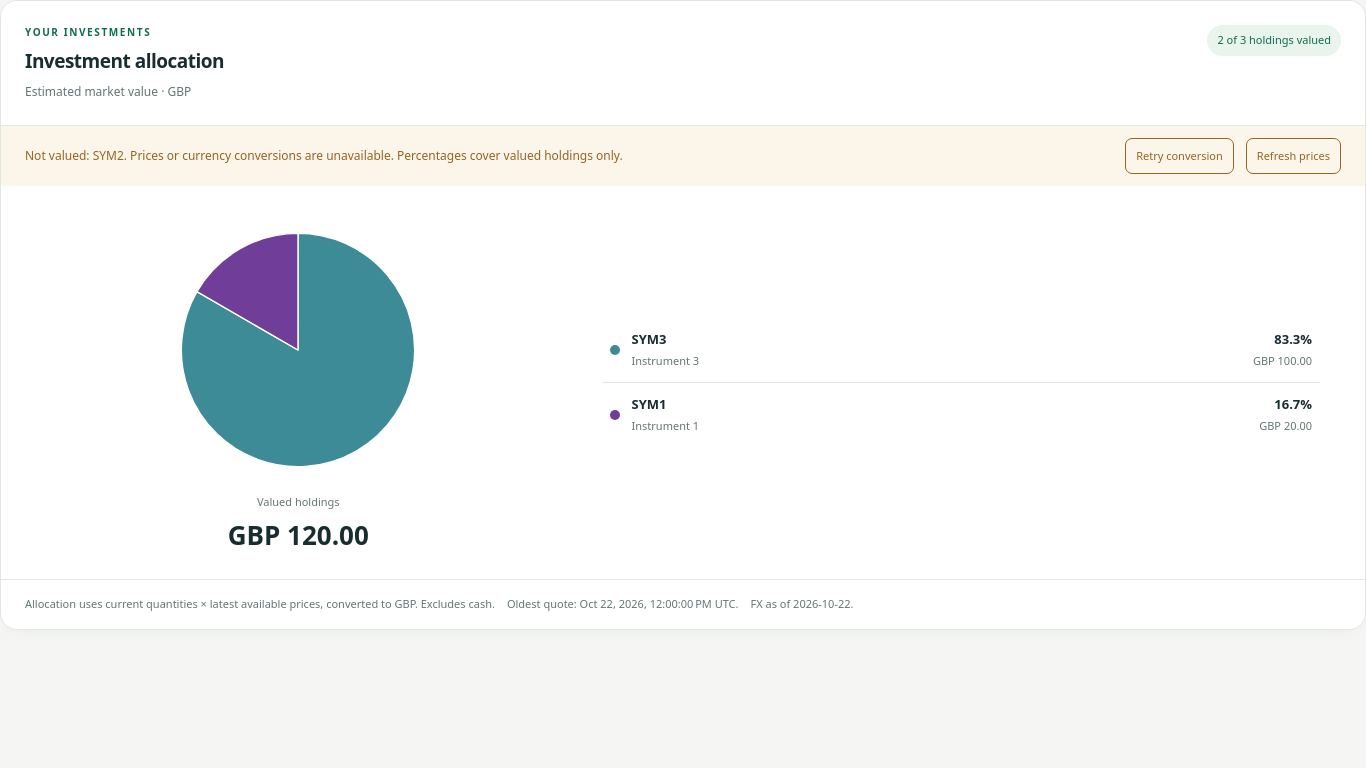
it: Holdings allocation › explains a partial allocation after an FX failure and recovers through the rendered retry action
The image size is (1366, 768).
Click the button "Retry conversion" at (1179, 156), box [1125,138,1234,174]
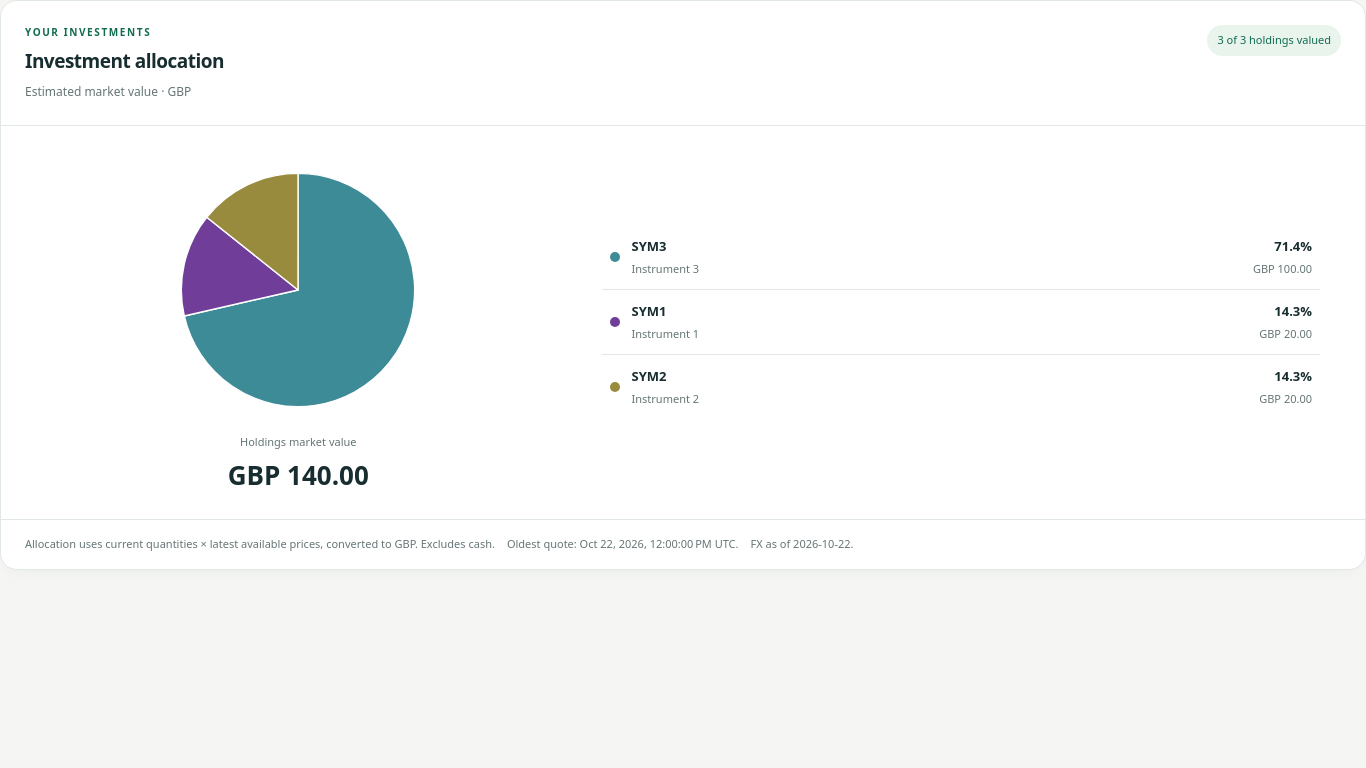
Now the message with class "allocation-warning" is gone
